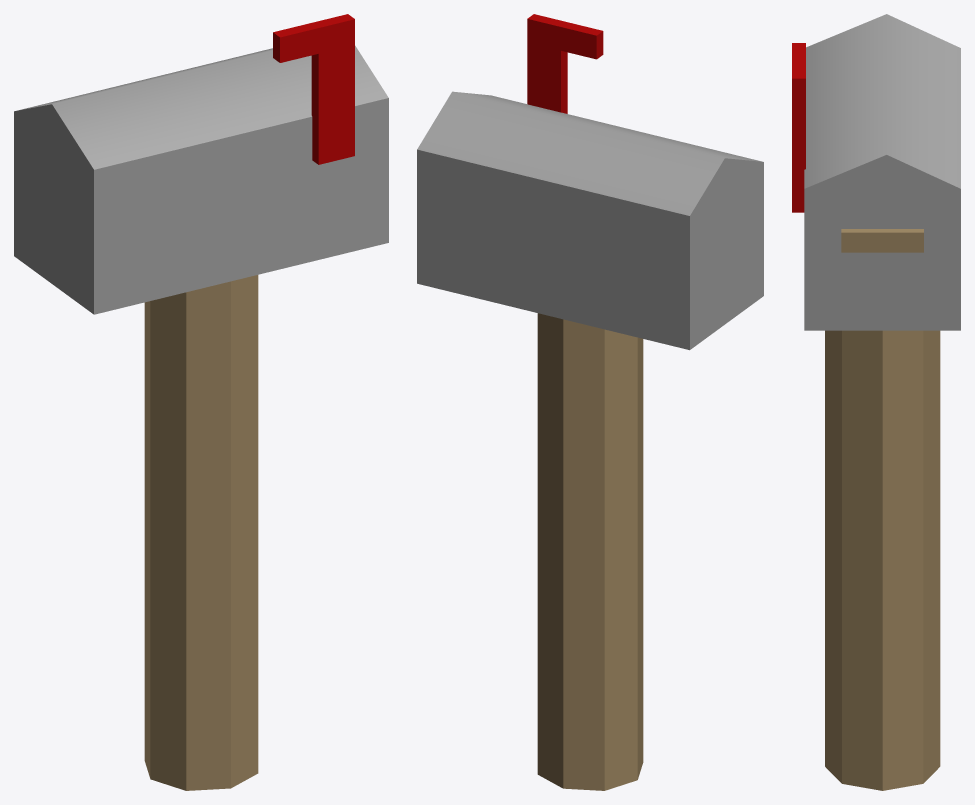
File: mailbox.fbx
The picture shows the model from 3 angles, left to right: view 1: azimuth 30°, elevation 25°; view 2: azimuth 150°, elevation 25°; view 3: azimuth 270°, elevation 25°; orthographic projection. The views are drawn at different scales.
Parts seen in each view (by area): view 1: pCube7; view 2: pCube7; view 3: pCube7.
Part boxes in pixels (bbox=[...]): pCube7: bbox=[14, 14, 388, 790]; pCube7: bbox=[417, 14, 763, 790]; pCube7: bbox=[792, 14, 960, 790].
Bounding box in the file's own units: 0.845 × 2.02 × 0.4178.
